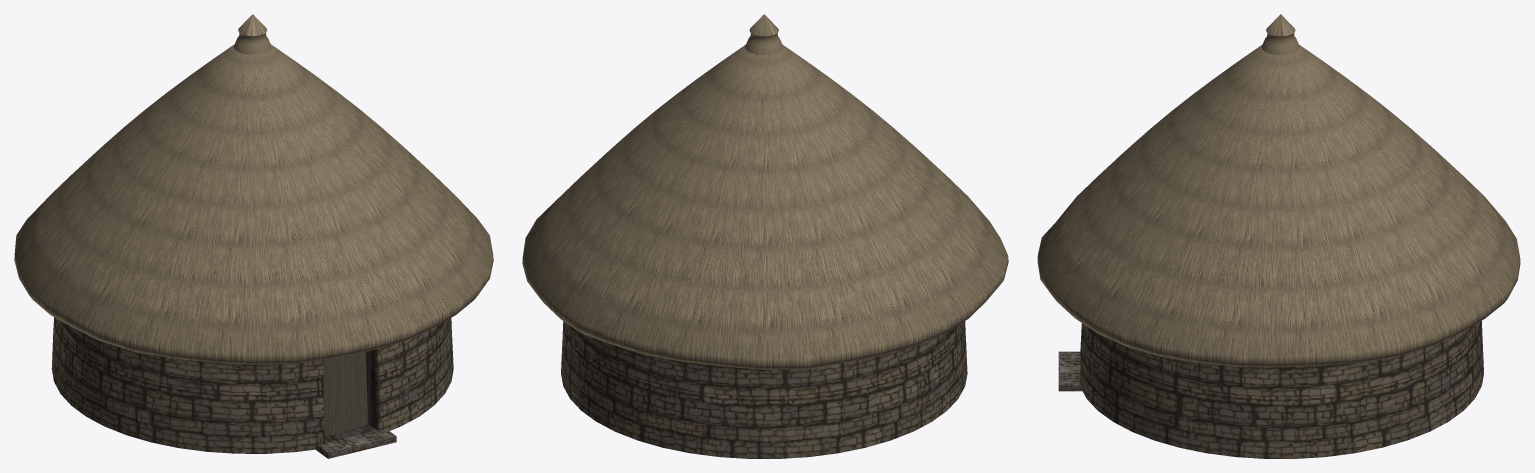
File: casa_redonda.glb
The picture shows the model from 3 angles, left to right: view 1: azimuth 30°, elevation 25°; view 2: azimuth 150°, elevation 25°; view 3: azimuth 270°, elevation 25°; orthographic projection.
Visible parts, largest first — view 1: mapa_casa_redonda_a_LOD0; view 2: mapa_casa_redonda_a_LOD0; view 3: mapa_casa_redonda_a_LOD0.
Boxes of the visible parts, box(x1,y1,x2,y2) form: mapa_casa_redonda_a_LOD0: box(14, 14, 493, 458); mapa_casa_redonda_a_LOD0: box(522, 14, 1008, 458); mapa_casa_redonda_a_LOD0: box(1037, 14, 1520, 458).
Size of what is drawn, in the model's own units: 7.22 by 5.97 by 7.25.
2 materials, 2 textured.
